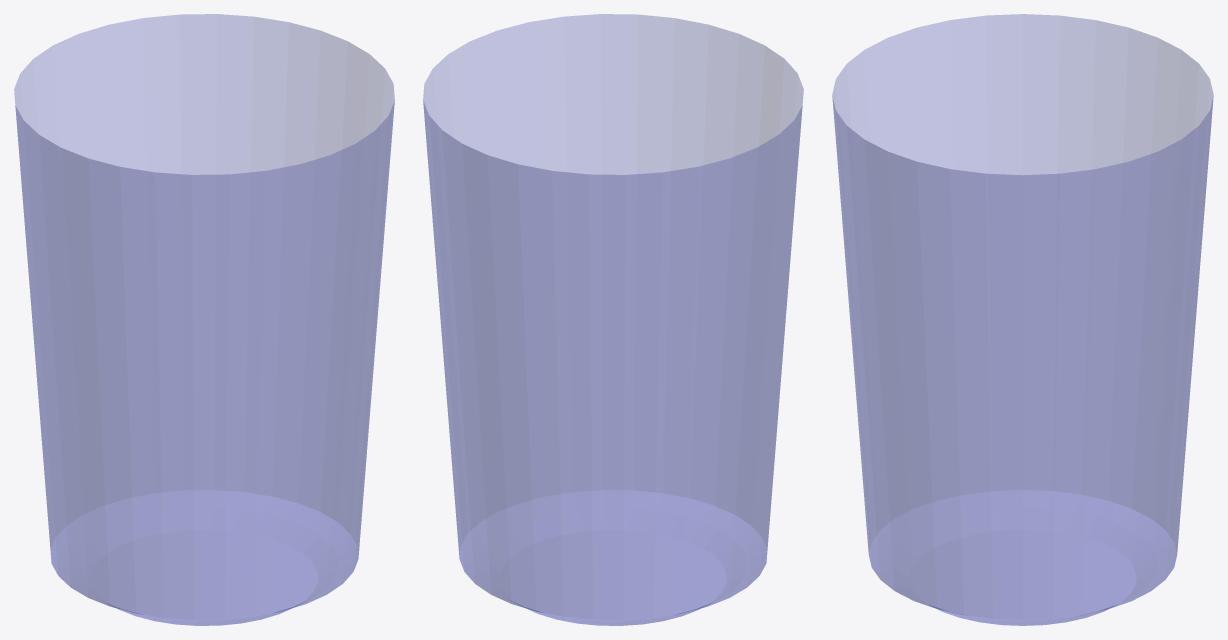
The model's file is vaso2.fbx.
The picture shows the model from 3 angles, left to right: view 1: azimuth 30°, elevation 25°; view 2: azimuth 150°, elevation 25°; view 3: azimuth 270°, elevation 25°; orthographic projection.
Visible parts, largest first — view 1: Cylinder; view 2: Cylinder; view 3: Cylinder.
Part boxes in pixels (bbox=[...]): Cylinder: bbox=[14, 14, 394, 625]; Cylinder: bbox=[423, 14, 803, 625]; Cylinder: bbox=[832, 14, 1213, 625].
Bounding box in the file's own units: 477 × 666 × 477.
